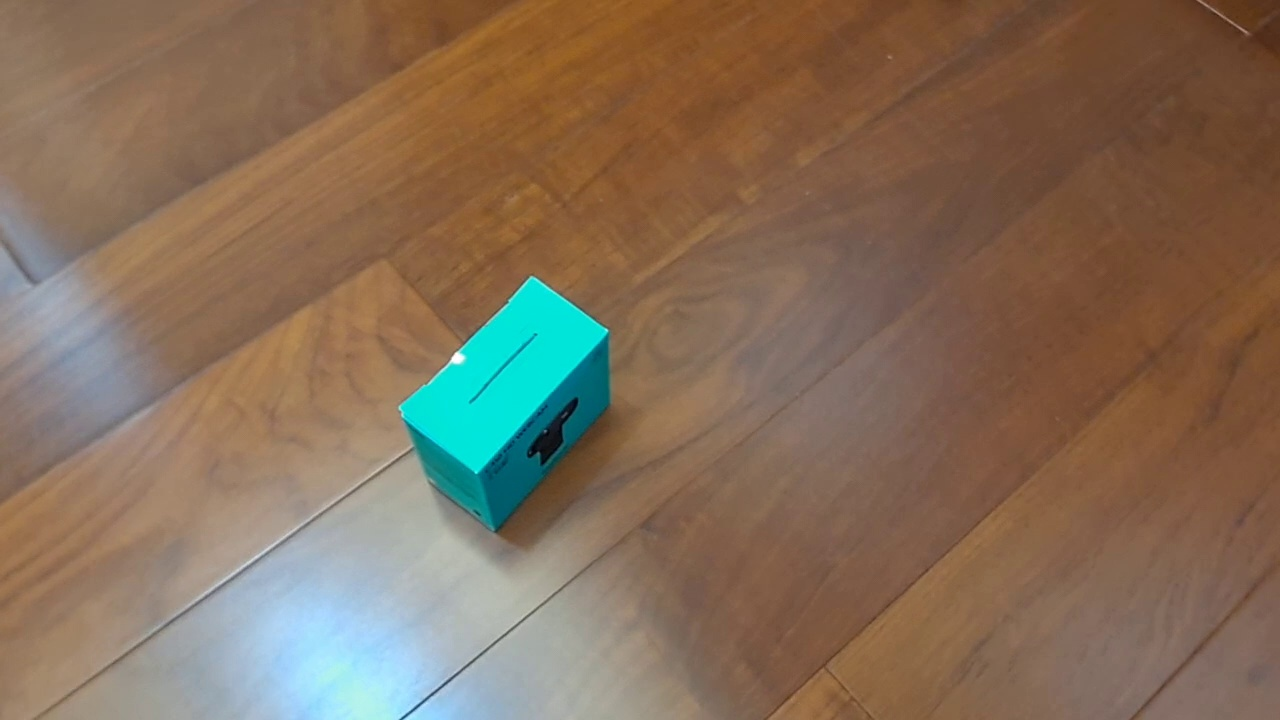webcam: (398, 274, 612, 533)
